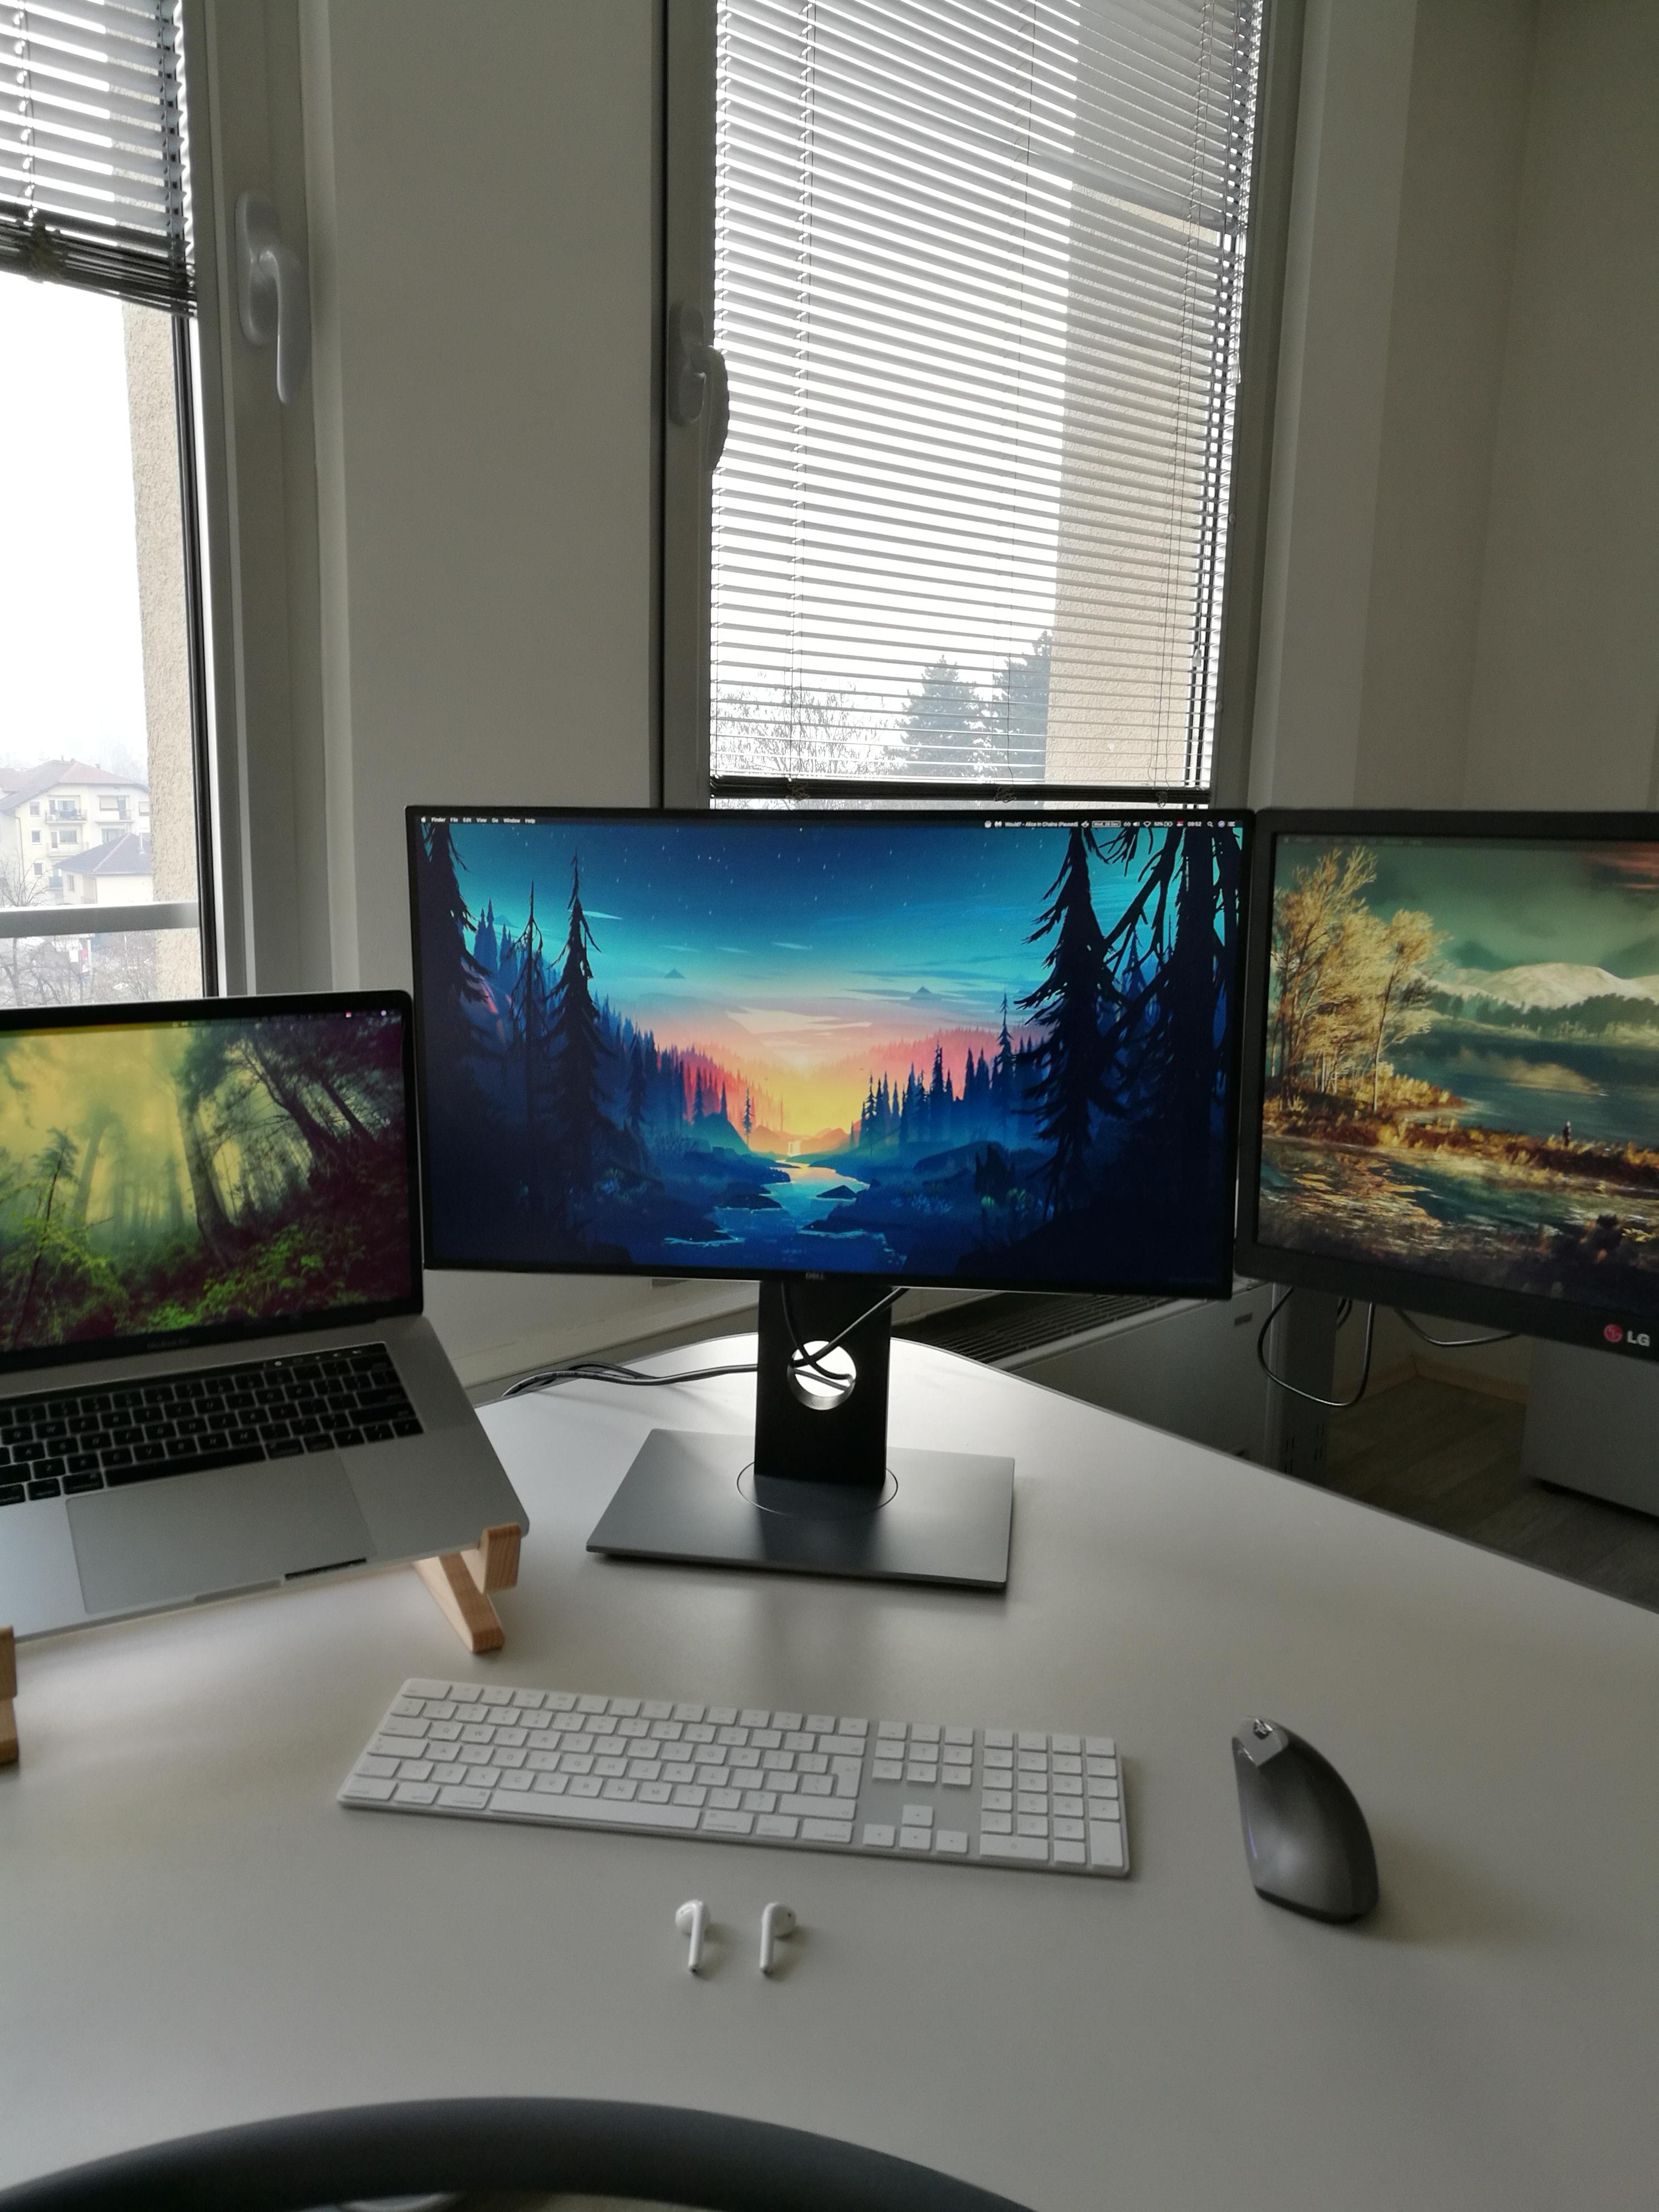Airpods (Apple): (650, 1897, 810, 1980)
Desk (Generic): (5, 1303, 1652, 2212)
Keyboard (Generic): (328, 1662, 1147, 1892)
Laptop (OSX): (0, 977, 538, 1651)
Monitor (Landscape): (389, 796, 1239, 1597), (1251, 812, 1659, 1364)
Mouse (Ergonomic): (1209, 1702, 1398, 1939)
